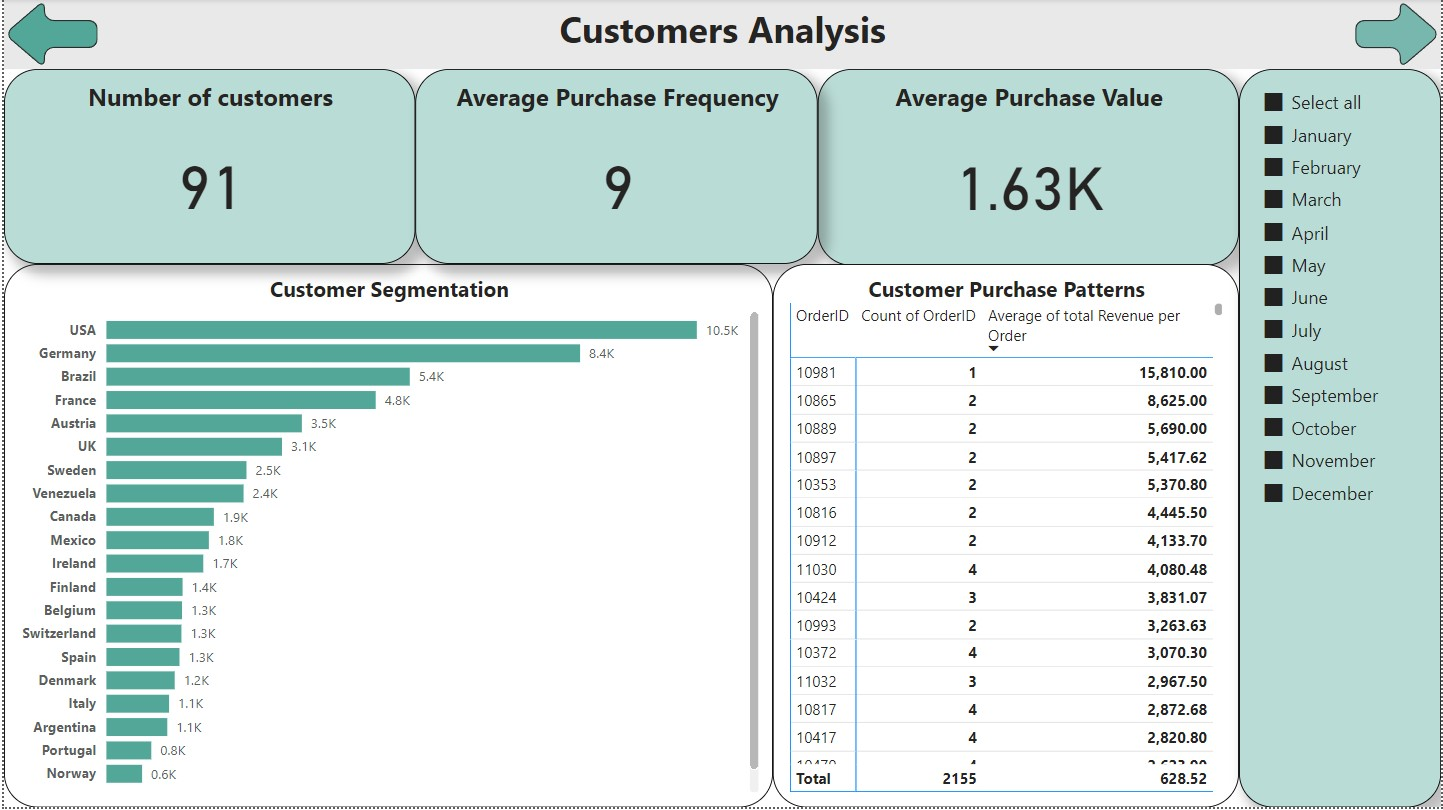

The page's visual inventory and layout, read from the dashboard file:
{"tool":"powerbi","page":{"name":"customers","canvas":[1280,720],"ordinal":1},"visuals":[{"type":"clusteredBarChart","title":"Customer Segmentation","fields":{"Category":["Customers.Country"],"Y":["Sum(OrdersDetails.UnitPrice)"]},"box":[0,236.2,685,483.8],"z":0},{"type":"card","title":"Number of customers","fields":{"Values":["Count(Customers)"]},"box":[0,62.5,366.2,173.8],"z":1000},{"type":"card","title":"Average Purchase Value","fields":{"Values":["Categories.Average Purchase Value"]},"box":[725,62.5,375,175],"z":2000},{"type":"card","title":"Average Purchase Frequency","fields":{"Values":["Categories.Average Purchase Frequency"]},"box":[366.2,62.5,358.8,173.8],"z":3000},{"type":"pivotTable","title":"Customer Purchase Patterns","fields":{"Rows":["Orders.OrderID"],"Values":["CountNonNull(OrdersDetails.OrderID)","Avg(OrdersDetails.total Revenue per Order)"]},"box":[685,236.2,415,483.8],"z":4000},{"type":"slicer","fields":{"Values":["Orders.OrderDate.Variation.Date Hierarchy.Month"]},"box":[1100,62.5,180,657.5],"z":5000},{"type":"textbox","box":[0,0,1280,62.5],"z":6000},{"type":"shape","box":[1203.8,0,76.2,62.5],"z":7000},{"type":"shape","box":[0,0,83.5,62.3],"z":8000}]}

Visuals, with their boxes in screenshot pixels (x1, y1, x2, y2), scaled from the page's 1280x720 canvas onto the 1443x810 screenshot:
"Customer Segmentation" clusteredBarChart: detection(0, 266, 772, 809)
"Number of customers" card: detection(0, 70, 413, 266)
"Average Purchase Value" card: detection(817, 70, 1240, 267)
"Average Purchase Frequency" card: detection(413, 70, 817, 266)
"Customer Purchase Patterns" pivotTable: detection(772, 266, 1240, 809)
slicer - Orders.OrderDate.Variation.Date Hierarchy.Month: detection(1240, 70, 1442, 809)
textbox: detection(0, 0, 1442, 70)
shape: detection(1357, 0, 1442, 70)
shape: detection(0, 0, 94, 70)
